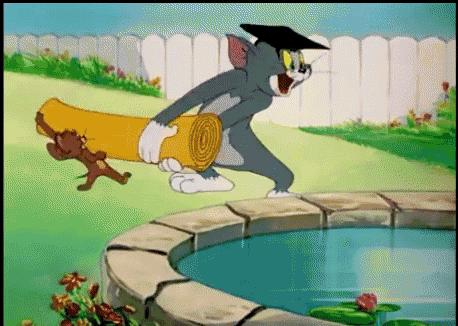jerry: (34, 111, 135, 192)
